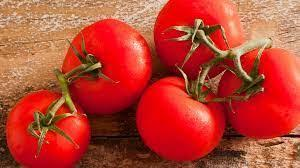healthy-tomato: (56, 21, 145, 112), (8, 71, 91, 168), (215, 49, 300, 141), (155, 1, 246, 82), (140, 78, 227, 161)
